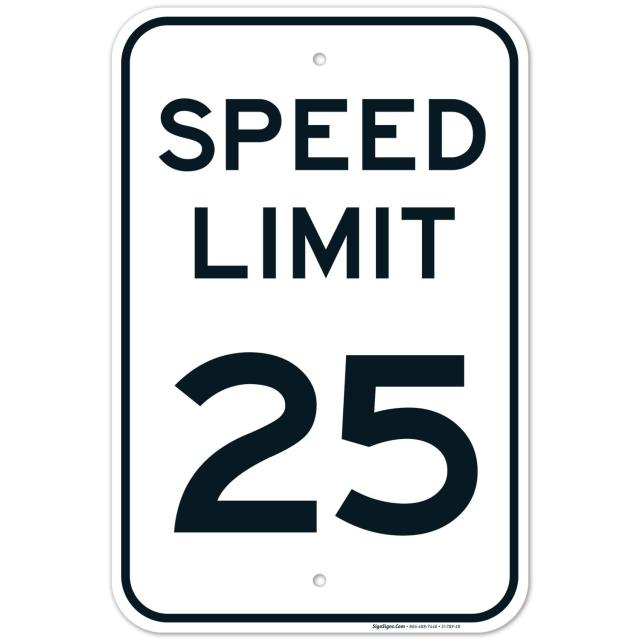speedLimit25: (109, 13, 529, 634)
